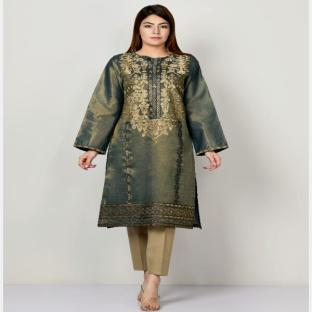Human: (74, 5, 228, 309)
